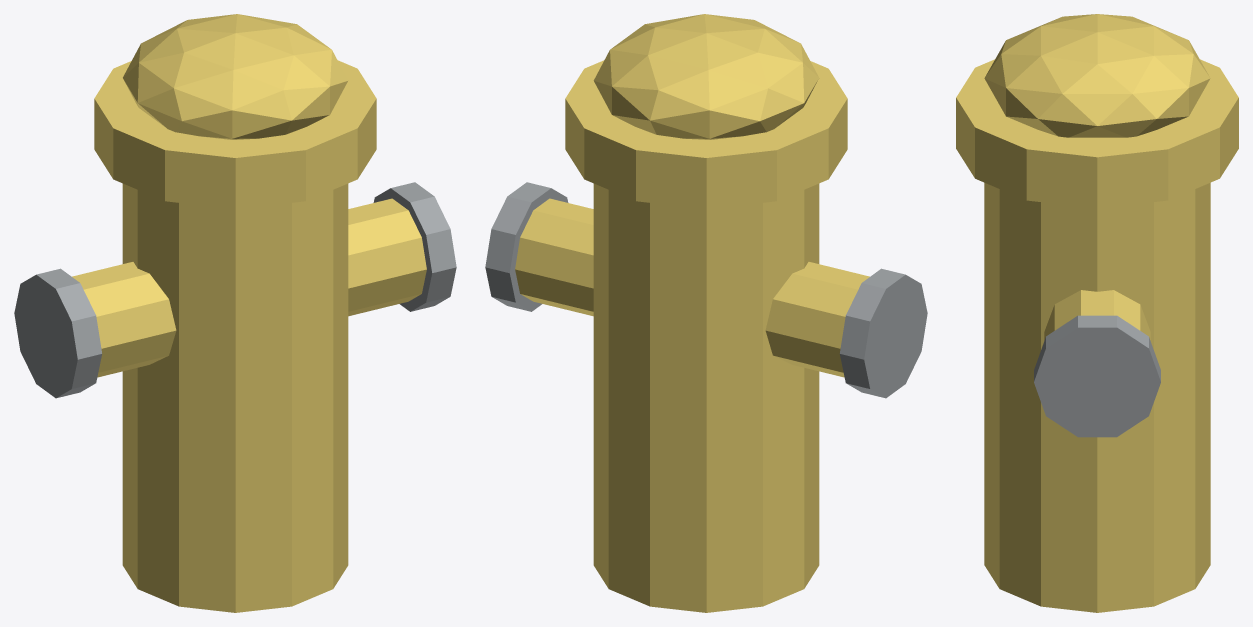
Rendered from hydrant_01.glb.
3 renders of one model, left to right at view 1: azimuth 30°, elevation 25°; view 2: azimuth 150°, elevation 25°; view 3: azimuth 270°, elevation 25°, orthographic.
Parts seen in each view (by area): view 1: body, top, dome, cap-1, arm-1, arm1, cap1; view 2: body, top, dome, cap-1, arm-1, arm1, cap1; view 3: body, top, dome, cap1, arm1.
Boxes of the visible parts, x1,y1,x2,y2 form: body: [122, 183, 348, 612]; top: [94, 60, 376, 209]; dome: [123, 14, 348, 139]; cap-1: [14, 268, 102, 398]; arm-1: [72, 262, 176, 377]; arm1: [348, 198, 426, 316]; cap1: [373, 182, 456, 311]; body: [593, 183, 819, 612]; top: [565, 60, 847, 209]; dome: [593, 14, 818, 139]; cap-1: [839, 268, 927, 398]; arm-1: [765, 262, 869, 377]; arm1: [515, 198, 593, 316]; cap1: [485, 182, 568, 311]; body: [984, 182, 1210, 612]; top: [956, 59, 1238, 208]; dome: [984, 14, 1210, 137]; cap1: [1034, 315, 1160, 437]; arm1: [1044, 290, 1150, 340].
Bounding box in the file's own units: 0.62 × 0.832 × 0.4.
